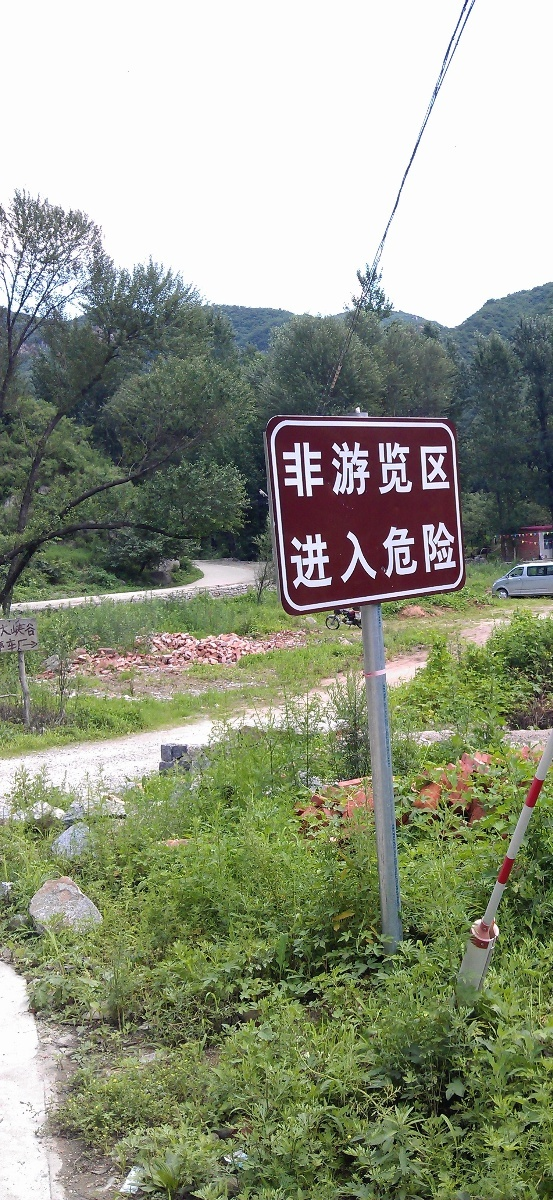text: (289, 520, 304, 593), (305, 520, 320, 593), (321, 520, 336, 593), (337, 520, 352, 593), (353, 520, 368, 593), (369, 520, 384, 593), (385, 520, 400, 593), (401, 520, 416, 593), (417, 520, 432, 593), (433, 520, 448, 593), (289, 439, 304, 499), (305, 439, 320, 499), (321, 439, 336, 499), (337, 439, 352, 499), (353, 439, 368, 499), (369, 439, 384, 499), (385, 439, 400, 499), (401, 439, 416, 499), (417, 439, 432, 499), (433, 439, 448, 499), (449, 520, 459, 593), (280, 439, 288, 499), (1, 623, 16, 637), (17, 623, 32, 637), (1, 638, 16, 652), (449, 439, 452, 499), (17, 638, 28, 652), (33, 623, 37, 637)
